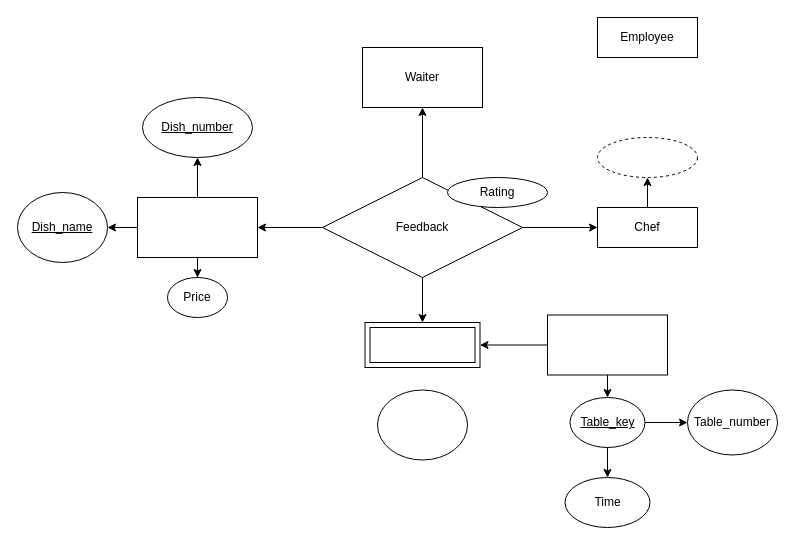
Image size: 795x545. Some labels were removed from this diagram. Each missing label, with the centre of its shape:
Customer: (422,345)
Dish: (197,227)
Num_Customers: (422,424)
Position: (647,157)
Table: (607,344)
